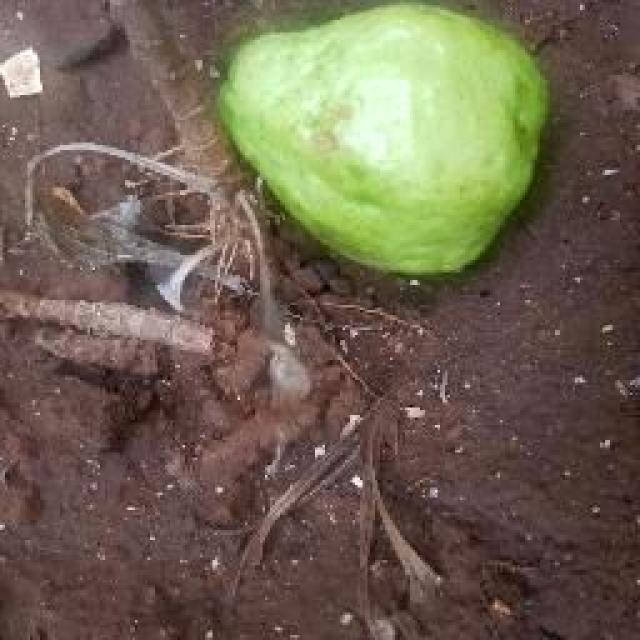Good_Guava: (218, 2, 552, 280)
